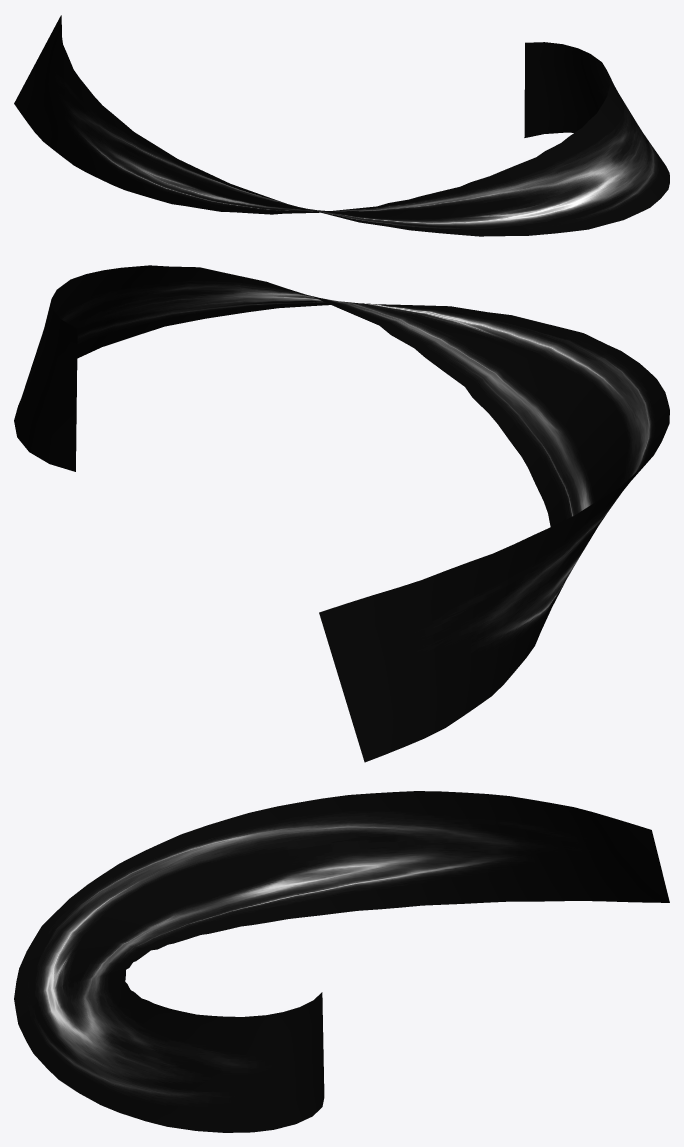
File: 0398_qiliu01.glb
3 renders of one model, top to bottom at view 1: azimuth 30°, elevation 25°; view 2: azimuth 150°, elevation 25°; view 3: azimuth 270°, elevation 25°, orthographic. The views are drawn at different scales.
Bounding box in the file's own units: 1.93 × 0.3901 × 2.2.
Materials: 1 (1 with a texture image).
